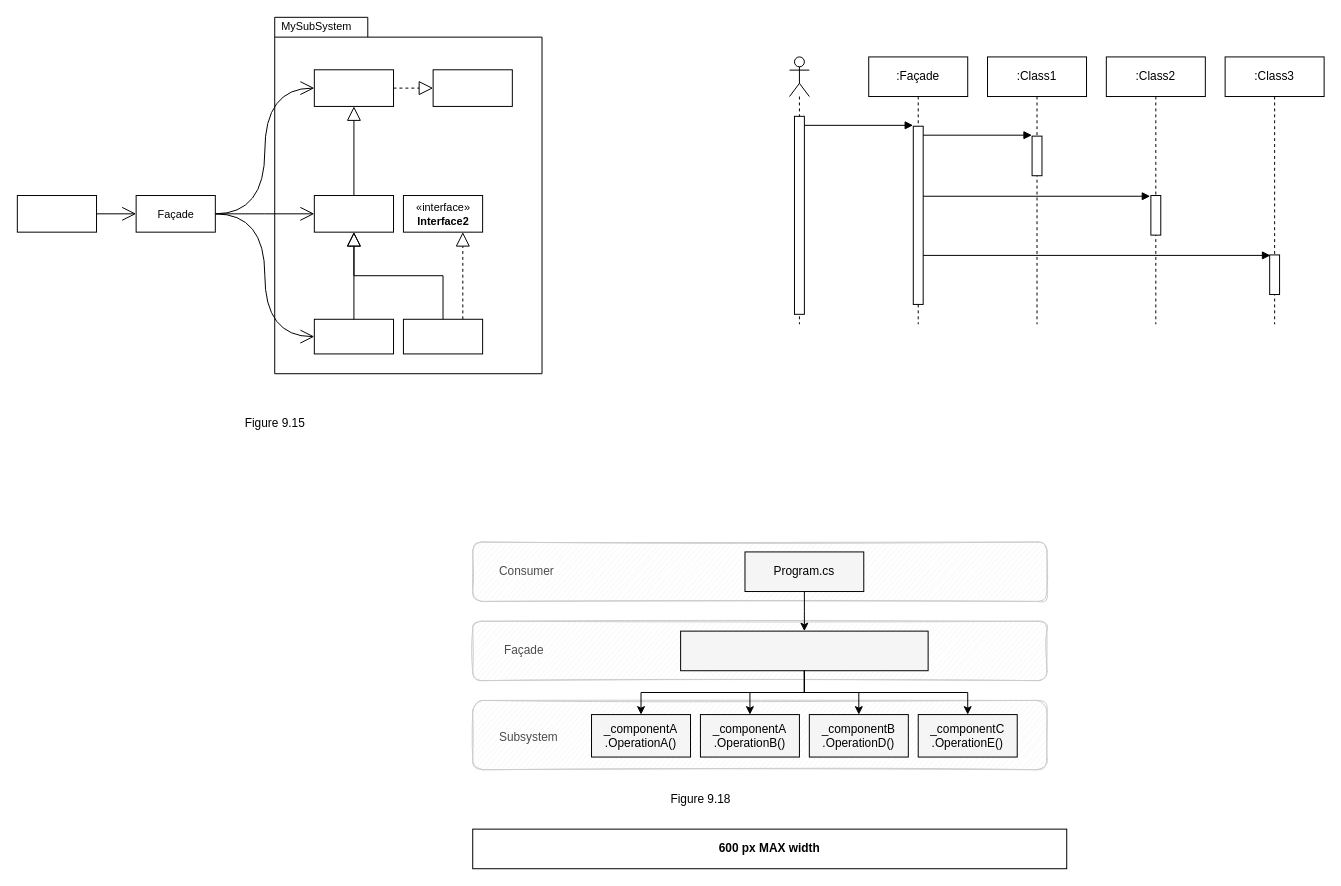
Some shapes in this 1341 by 886 pixel diagram are drawn without their labels. The centre of each missing label's shape, as x and y in pixels:
"Class1" goes at (353,87).
"Class2" goes at (353,213).
"Class3" goes at (353,336).
"Class4" goes at (442,336).
"Client" goes at (56,213).
"transparentFacade.ExecuteOperationA()" goes at (804,650).
"«interface» Interface1" goes at (472,87).
